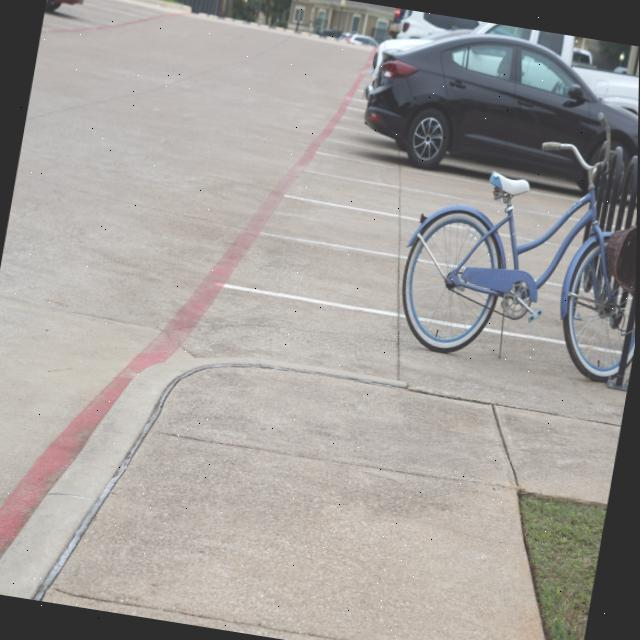Automobile: (367, 34, 639, 179), (473, 23, 574, 62), (579, 71, 639, 114), (400, 10, 480, 34)
Obstacle: (403, 139, 638, 383)
Road: (0, 0, 615, 551)
Sidewalk: (0, 358, 624, 640)
